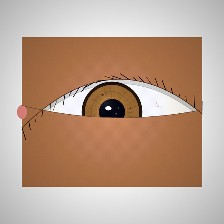hemorrhage_spot: (63, 102, 131, 156)
